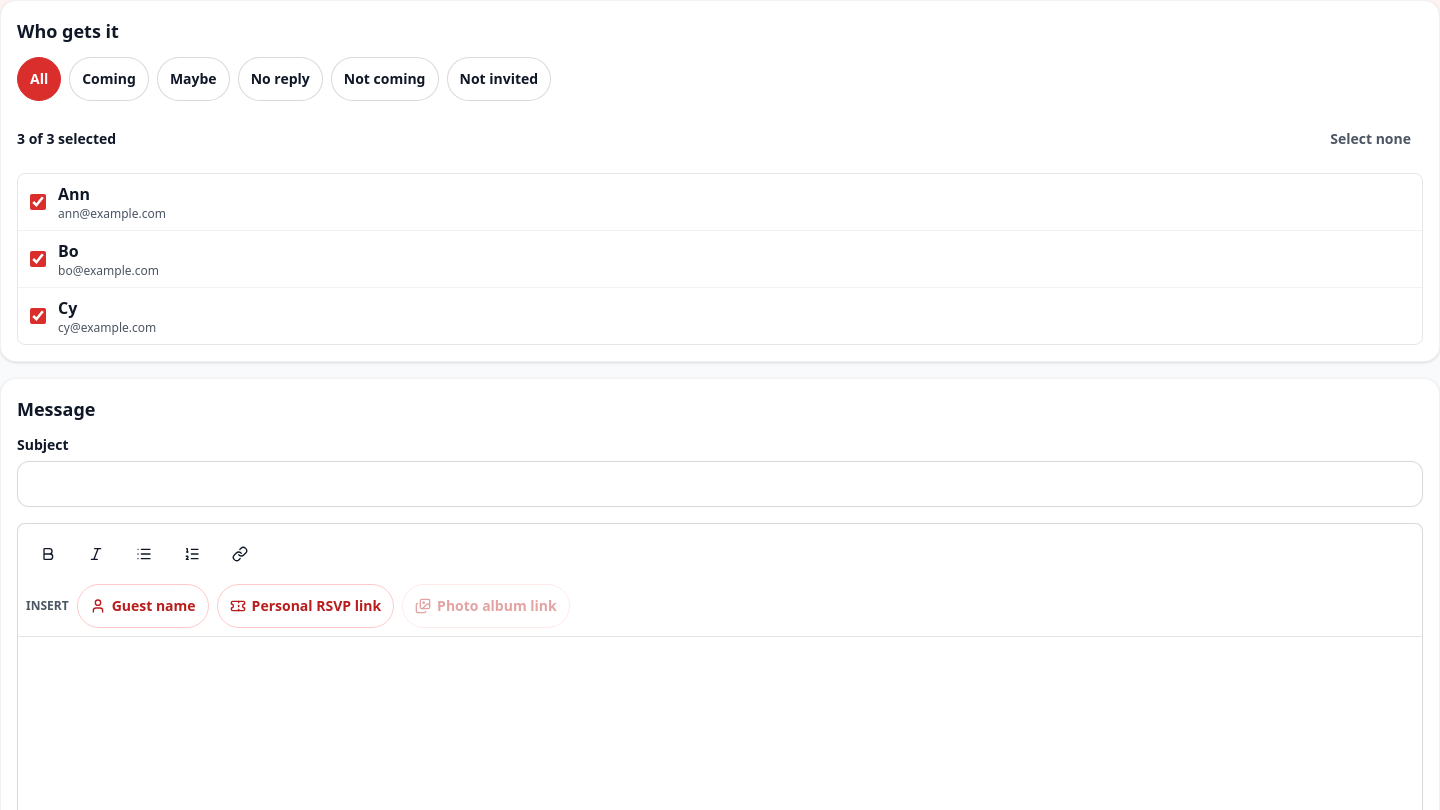
Test: EmailTab › lists only guests with an email, all ticked, narrowed by the filter
This screenshot has width=1440, height=810.
Expected: the text "3 of 3 selected" is shown, [17, 129, 116, 149]
Click the button "Coming": click(109, 79) [69, 57, 149, 101]
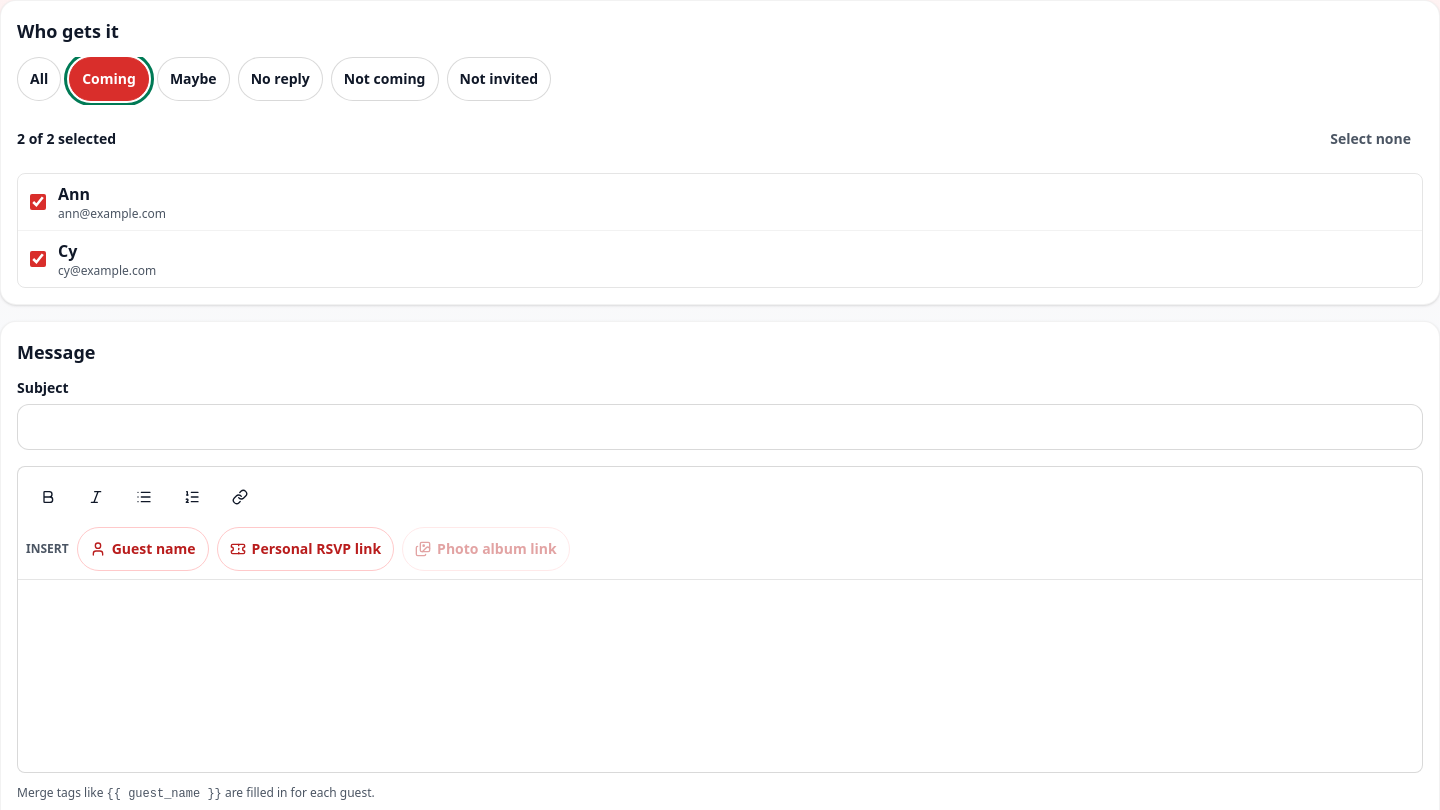
Result: the text "2 of 2 selected" is shown at [17, 129, 116, 149]
Result: the text "Bo" is gone
Click the checkbox labelled "Ann ann@example.com": click(38, 202) [30, 194, 46, 210]
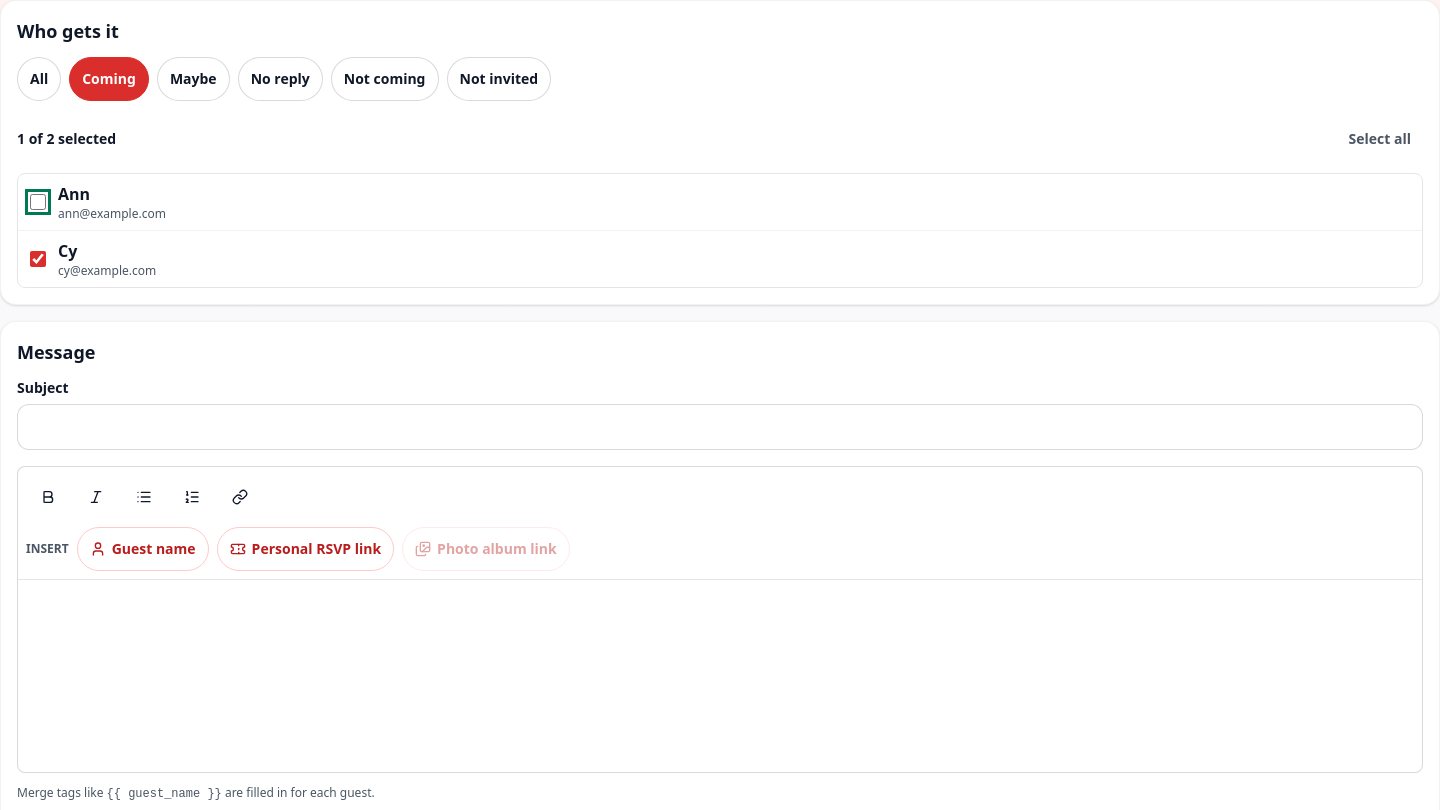
Result: the text "1 of 2 selected" is shown at [17, 129, 116, 149]
